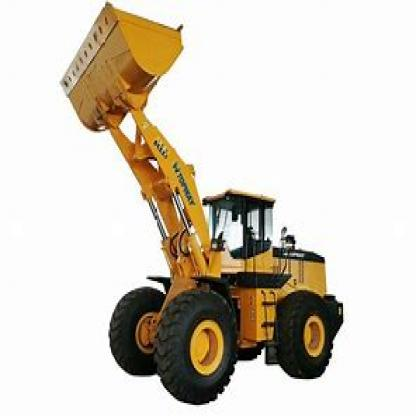bull_dozer/loader/grader: (45, 0, 360, 414)
